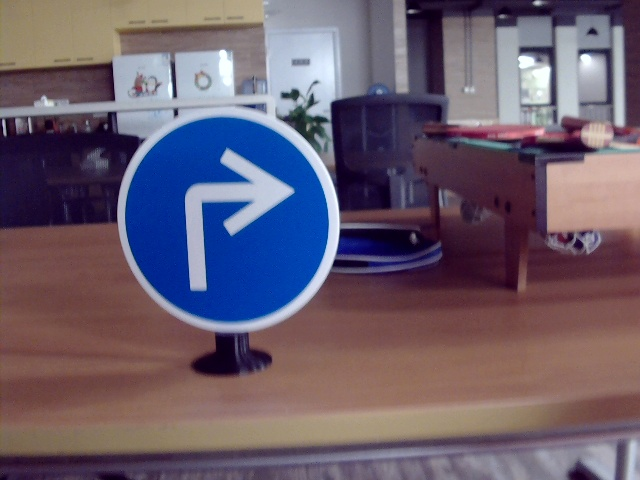turn_right: (170, 147, 298, 291)
